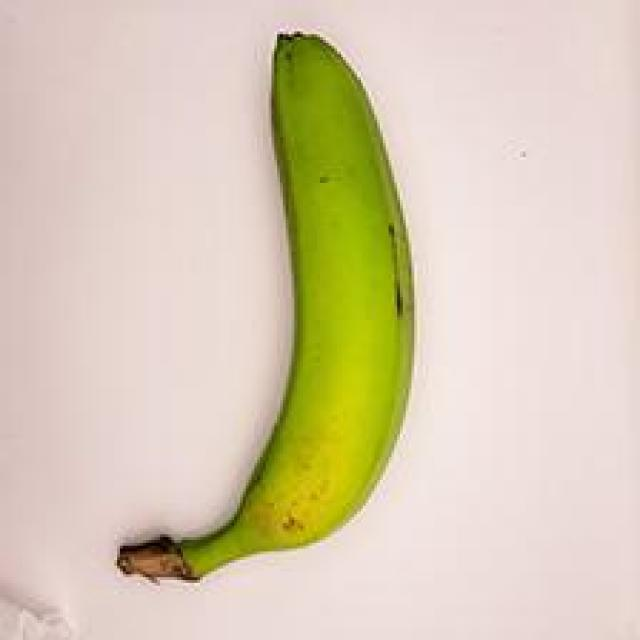Unripe: (106, 12, 452, 599)
